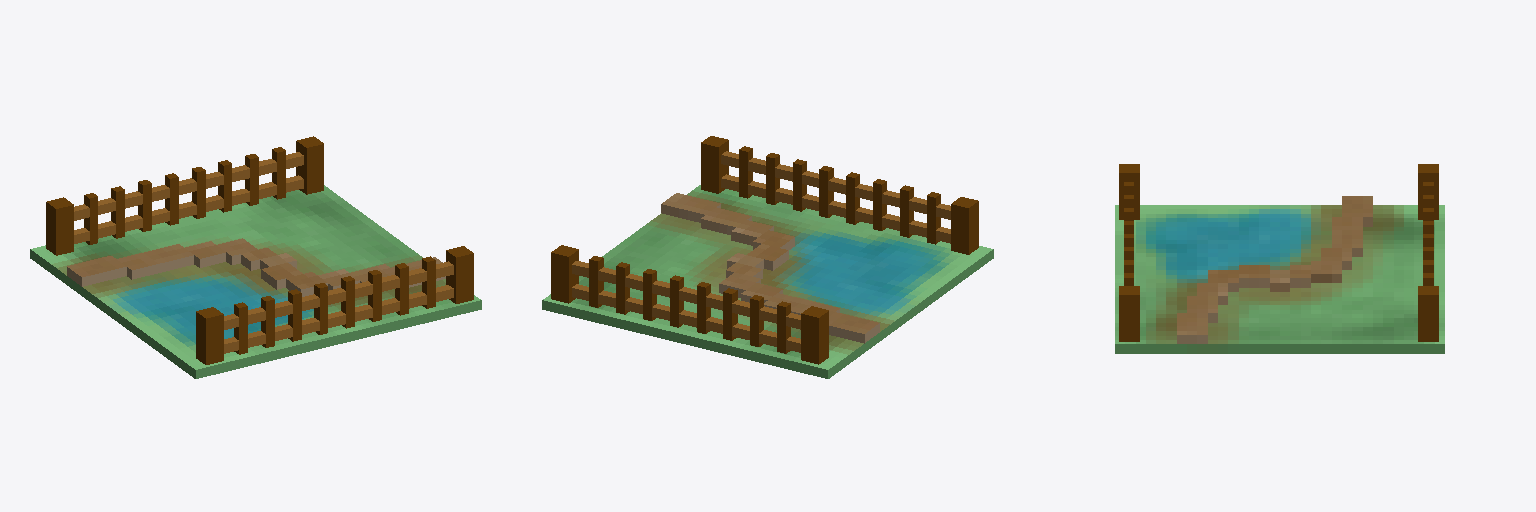
3 views of the same model, side by side, from view 1: azimuth 30°, elevation 25°; view 2: azimuth 150°, elevation 25°; view 3: azimuth 270°, elevation 25° (orthographic).
Visible parts, largest first — view 1: cube; view 2: cube; view 3: cube.
Part boxes in pixels (bbox=[...]): cube: bbox=[30, 136, 481, 378]; cube: bbox=[542, 136, 993, 378]; cube: bbox=[1115, 164, 1444, 353].
Size of the model in its own units: 2 by 0.375 by 2.
3 materials, 3 textured.